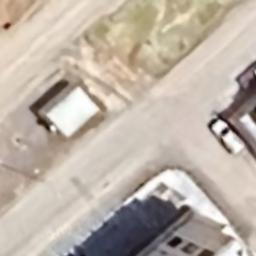SUV: (209, 116, 244, 156)
